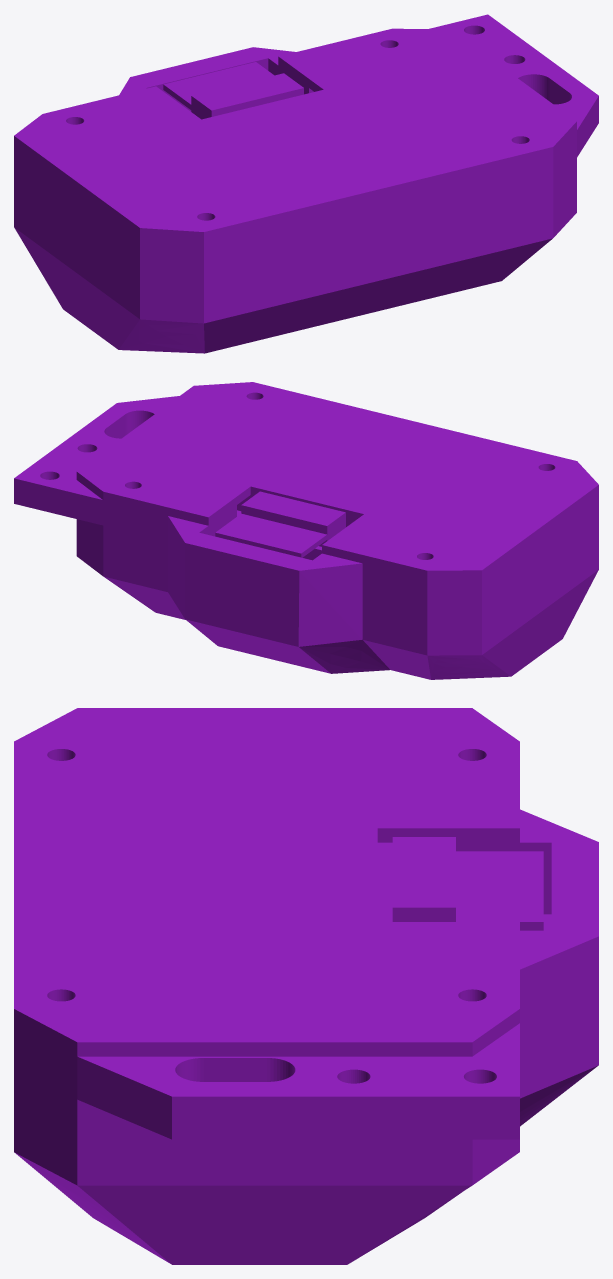
The model's file is radar-front-rf.obj.
The picture shows the model from 3 angles, top to bottom: view 1: azimuth 30°, elevation 25°; view 2: azimuth 150°, elevation 25°; view 3: azimuth 270°, elevation 25°; orthographic projection. The views are drawn at different scales.
Parts seen in each view (by area): view 1: \u8d85\u58f0\u6ce2\u4f20\u611f\u5668\u5916\u7f69-\u53f3\u524d, \u8d85\u58f0\u6ce2\u4f20\u611f\u5668\u5916\u7f69\u80cc\u677f-\u5, \u8d85\u58f0\u6ce2\u4f20\u611f\u5668SR04P-\u53f3\u524d; view 2: \u8d85\u58f0\u6ce2\u4f20\u611f\u5668\u5916\u7f69-\u53f3\u524d, \u8d85\u58f0\u6ce2\u4f20\u611f\u5668\u5916\u7f69\u80cc\u677f-\u5, \u8d85\u58f0\u6ce2\u4f20\u611f\u5668SR04P-\u53f3\u524d; view 3: \u8d85\u58f0\u6ce2\u4f20\u611f\u5668\u5916\u7f69\u80cc\u677f-\u5, \u8d85\u58f0\u6ce2\u4f20\u611f\u5668\u5916\u7f69-\u53f3\u524d, \u8d85\u58f0\u6ce2\u4f20\u611f\u5668SR04P-\u53f3\u524d.
Boxes of the visible parts, x1,y1,x2,y2 form: \u8d85\u58f0\u6ce2\u4f20\u611f\u5668\u5916\u7f69-\u53f3\u524d: [14, 14, 598, 353]; \u8d85\u58f0\u6ce2\u4f20\u611f\u5668\u5916\u7f69\u80cc\u677f-\u5: [14, 28, 576, 241]; \u8d85\u58f0\u6ce2\u4f20\u611f\u5668SR04P-\u53f3\u524d: [163, 62, 303, 119]; \u8d85\u58f0\u6ce2\u4f20\u611f\u5668\u5916\u7f69-\u53f3\u524d: [14, 396, 598, 679]; \u8d85\u58f0\u6ce2\u4f20\u611f\u5668\u5916\u7f69\u80cc\u677f-\u5: [76, 382, 598, 579]; \u8d85\u58f0\u6ce2\u4f20\u611f\u5668SR04P-\u53f3\u524d: [215, 491, 354, 560]; \u8d85\u58f0\u6ce2\u4f20\u611f\u5668\u5916\u7f69\u80cc\u677f-\u5: [14, 708, 519, 1056]; \u8d85\u58f0\u6ce2\u4f20\u611f\u5668\u5916\u7f69-\u53f3\u524d: [14, 809, 598, 1264]; \u8d85\u58f0\u6ce2\u4f20\u611f\u5668SR04P-\u53f3\u524d: [377, 837, 543, 930].
Bounding box in the file's own units: 56 × 17.4 × 37.
